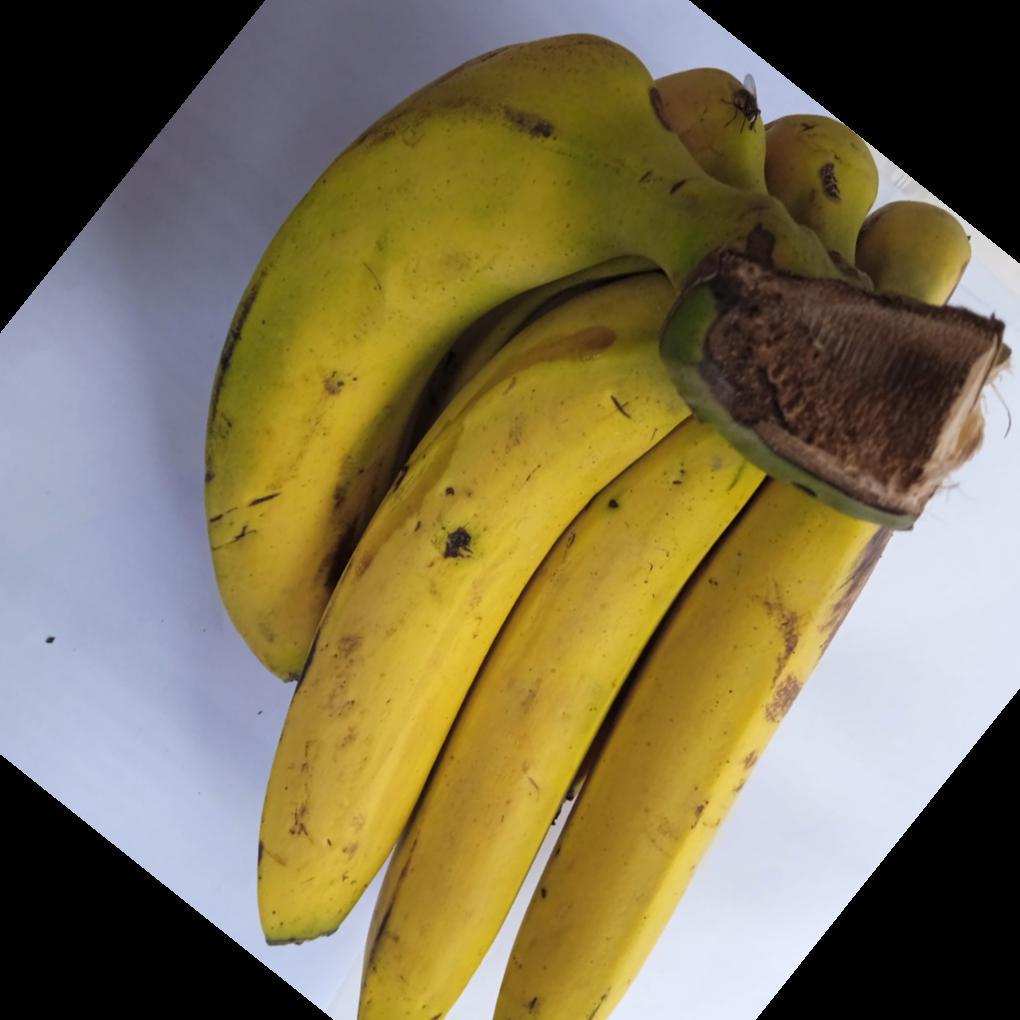Banana Ripe: (178, 34, 1020, 1020)
